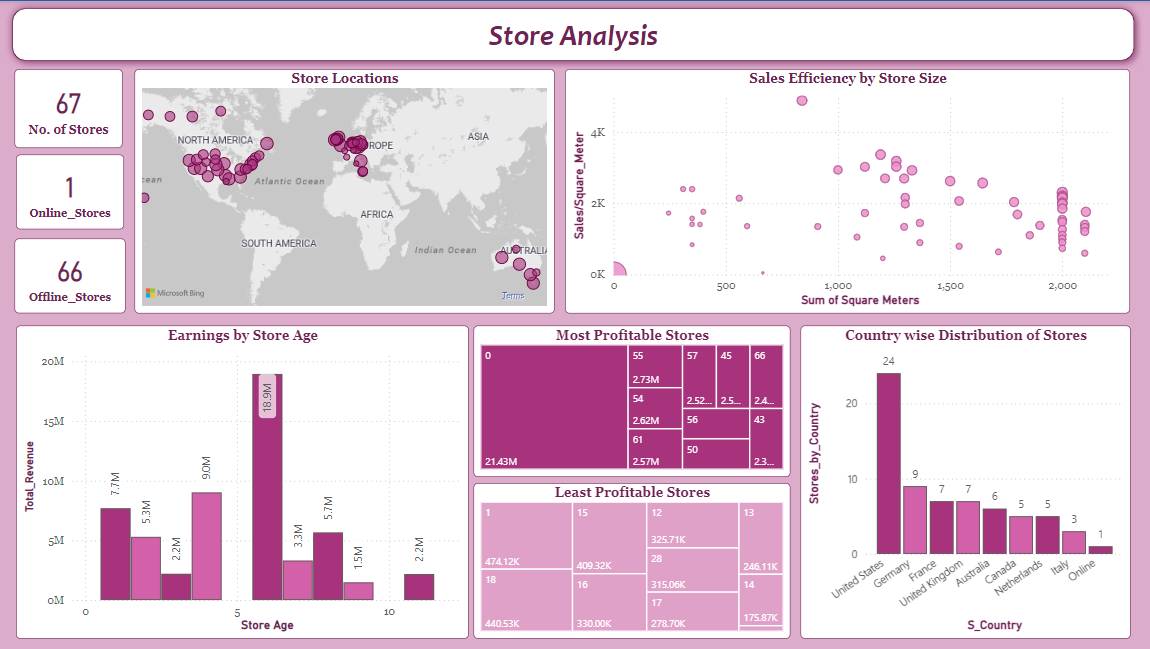

Layout of this report page (visuals, bound fields, positions):
{"tool":"powerbi","page":{"name":"Store Analysis","canvas":[1280,720],"ordinal":3},"visuals":[{"type":"shape","box":[0,0,1280.5,720.6],"z":0},{"type":"shape","box":[9.9,0,1257.3,76.2],"z":1000},{"type":"card","fields":{"Values":["CountNonNull(dataspark stores.StoreKey)"]},"box":[21.3,76,119.3,87.3],"z":2000},{"type":"map","title":"Store Locations","fields":{"Category":["dataspark stores.S_State"],"Size":["Sum(dataspark stores.Square Meters)"]},"box":[154.1,76.2,463.8,270],"z":3000},{"type":"card","fields":{"Values":["Calculated measure.Online_Stores"]},"box":[23.2,170.6,119.3,82.8],"z":4000},{"type":"card","fields":{"Values":["Calculated measure.Offline_Stores"]},"box":[21.5,263.4,122.6,82.8],"z":5000},{"type":"lineStackedColumnComboChart","title":"Earnings by Store Age","fields":{"Category":["dataspark stores.Store Age"],"Y":["Calculated measure.Total_Revenue"]},"box":[23.2,359.5,500.3,346.2],"z":6000},{"type":"treemap","title":"Most Profitable Stores","fields":{"Group":["dataspark stores.StoreKey"],"Values":["Calculated measure.Storewise_Profit"]},"box":[529,359,350,167],"z":7000},{"type":"treemap","title":"Least Profitable Stores","fields":{"Group":["dataspark stores.StoreKey"],"Values":["Calculated measure.Storewise_Profit"]},"box":[529,533,350,172],"z":8000},{"type":"scatterChart","title":"Sales Efficiency by Store Size","fields":{"Category":["dataspark stores.StoreKey"],"X":["Sum(dataspark stores.Square Meters)"],"Y":["Calculated measure.Sales/Square_Meter"],"Size":["Calculated measure.TotalSales_By_Store"]},"box":[630,76.2,623.8,270],"z":9000},{"type":"columnChart","title":"Country wise Distribution of Stores","fields":{"Category":["dataspark stores.S_Country"],"Y":["Calculated measure.Stores_by_Country"]},"box":[889.5,359.5,364.4,346.2],"z":10000}]}

Visuals, with their boxes in screenshot pixels (x1, y1, x2, y2), scaled from the page's 1280x720 canvas onto the 1150x649 screenshot:
shape: box(0, 0, 1149, 648)
shape: box(9, 0, 1138, 69)
card - CountNonNull(dataspark stores.StoreKey): box(19, 69, 126, 147)
"Store Locations" map: box(138, 69, 555, 312)
card - Calculated measure.Online_Stores: box(21, 154, 128, 228)
card - Calculated measure.Offline_Stores: box(19, 237, 129, 312)
"Earnings by Store Age" lineStackedColumnComboChart: box(21, 324, 470, 636)
"Most Profitable Stores" treemap: box(475, 324, 790, 474)
"Least Profitable Stores" treemap: box(475, 480, 790, 635)
"Sales Efficiency by Store Size" scatterChart: box(566, 69, 1126, 312)
"Country wise Distribution of Stores" columnChart: box(799, 324, 1127, 636)
